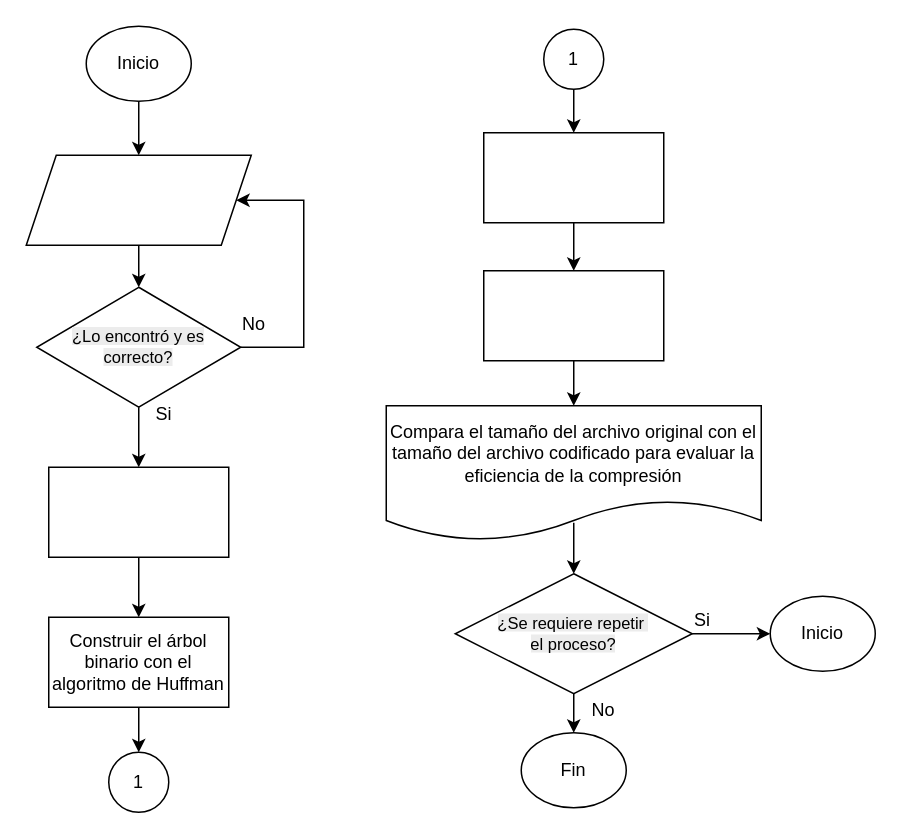
Image size: 902x839. Some labels were removed from this diagram. Each missing label, with the centre of its shape:
"Calcular la frecuencia de aparición de cada carácter" belongs at pixel 138 511.
"Cargar un archivo .txt (libro) en el programa" belongs at pixel 138 199.
"Codifica y decodifica el contenido del archivo utilizando los códigos binarios" belongs at pixel 573 315.
"Generar los códigos binarios asociados a cada carácter" belongs at pixel 573 177.
